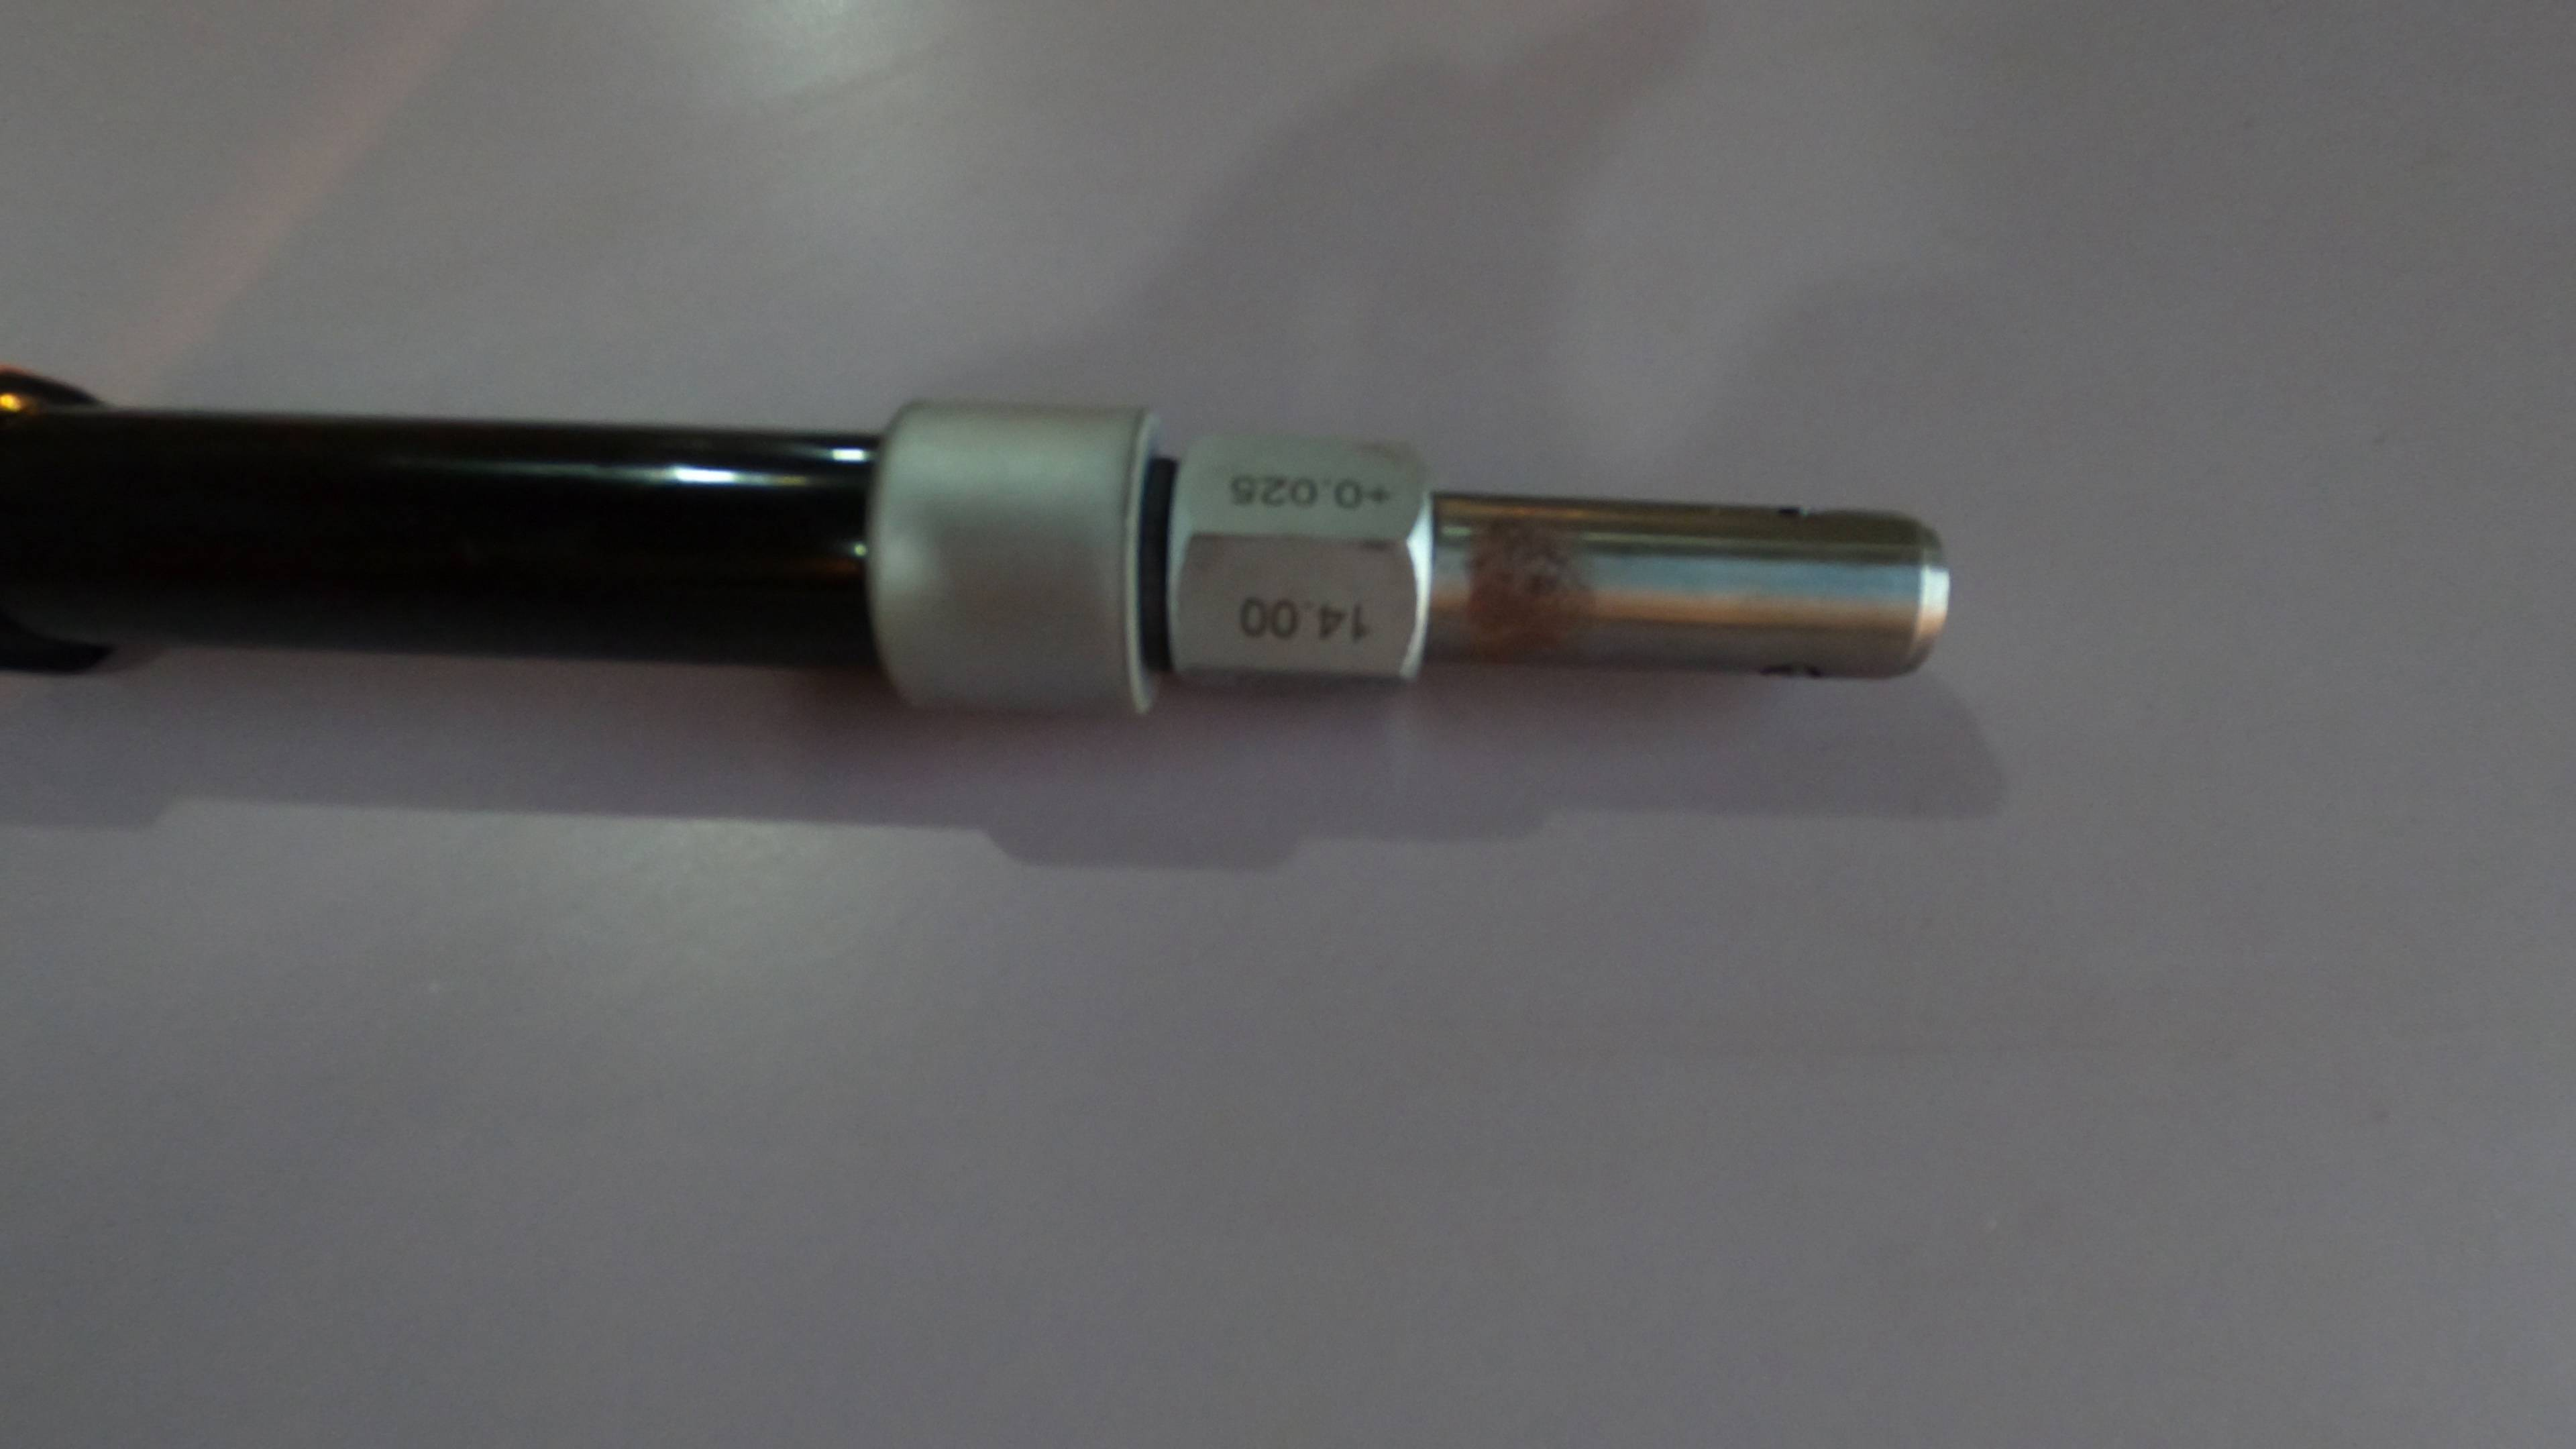air_gauge: (2, 361, 1957, 729)
